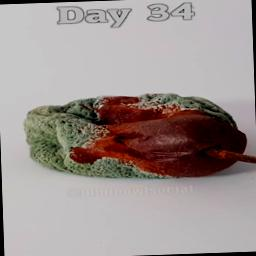Pear Rotten: (7, 85, 256, 186)
